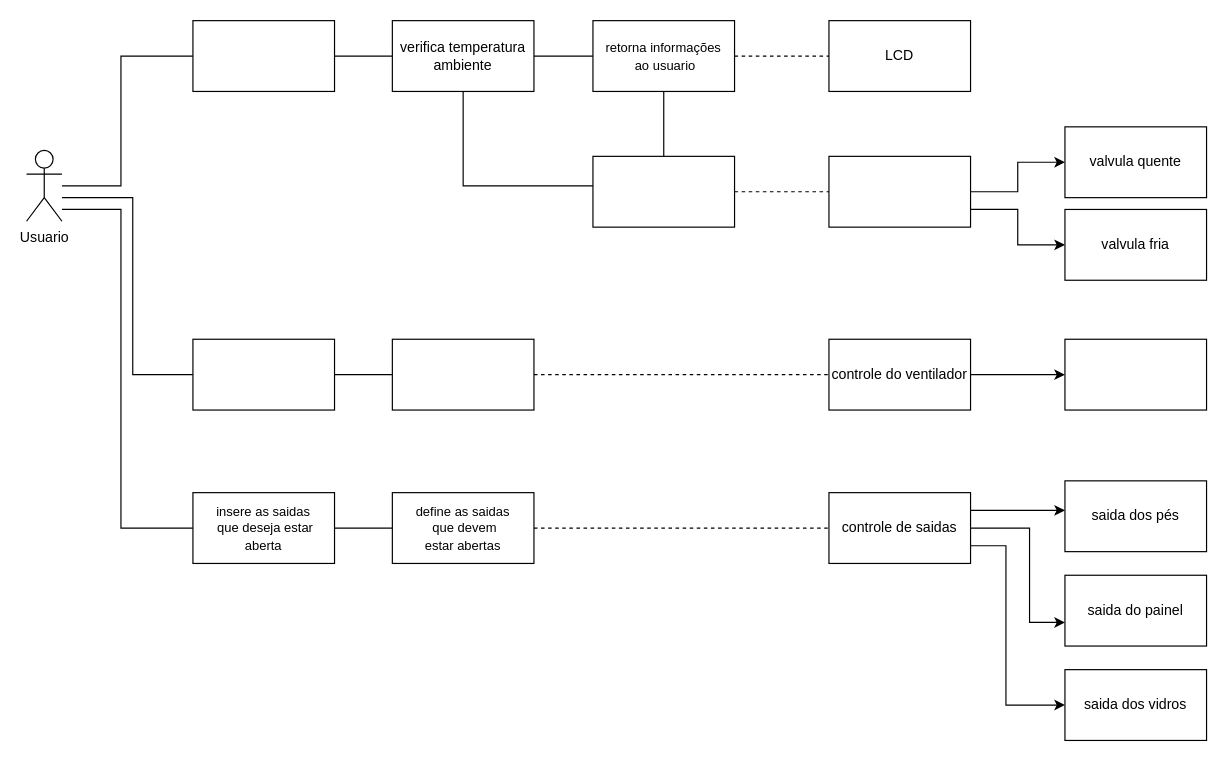
Image size: 1227x761. Some labels were removed from this diagram. The shapes that lost their labels are listed below. From the top down, each one's centre as x and y in pixels, then its label:
At [263,55]: "insere temper atur a desej ad a".
At [663,191]: "define volume de saida das valvulas valvula".
At [899,191]: "controle de valvulas".
At [263,374]: "insere força de rotaçao".
At [462,374]: "define força do ventil ador".
At [1135,374]: "ventil ador".
